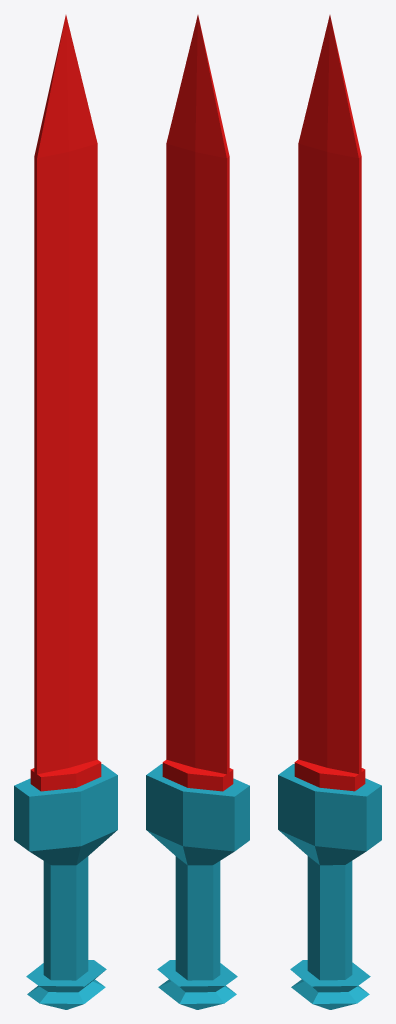
File: Sword.obj
The picture shows the model from 3 angles, left to right: view 1: azimuth 30°, elevation 25°; view 2: azimuth 150°, elevation 25°; view 3: azimuth 330°, elevation 25°; orthographic projection.
Parts seen in each view (by area): view 1: Cylinder_Cylinder.001; view 2: Cylinder_Cylinder.001; view 3: Cylinder_Cylinder.001.
Boxes of the visible parts, bbox=[...] form: Cylinder_Cylinder.001: bbox=[14, 15, 117, 1009]; Cylinder_Cylinder.001: bbox=[146, 15, 249, 1009]; Cylinder_Cylinder.001: bbox=[278, 15, 381, 1009].
Size of the model in its own units: 3.38 by 36.32 by 2.45.
